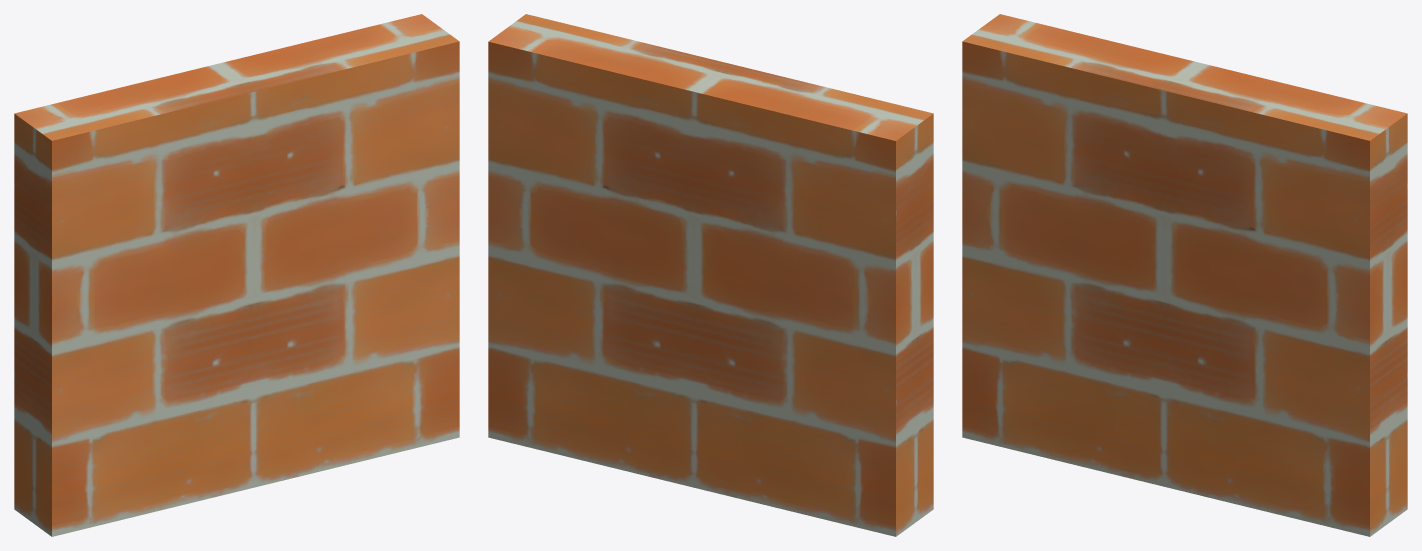
Rendered from Half_Brick_Wall_05.fbx.
The picture shows the model from 3 angles, left to right: view 1: azimuth 30°, elevation 25°; view 2: azimuth 150°, elevation 25°; view 3: azimuth 330°, elevation 25°; orthographic projection.
Parts seen in each view (by area): view 1: Half_Brick_Wall_05; view 2: Half_Brick_Wall_05; view 3: Half_Brick_Wall_05.
Boxes of the visible parts, x1,y1,x2,y2 form: Half_Brick_Wall_05: (14,14,459,536); Half_Brick_Wall_05: (488,14,933,536); Half_Brick_Wall_05: (962,14,1407,536).
Size of the model in its own units: 125 by 116 by 20.
